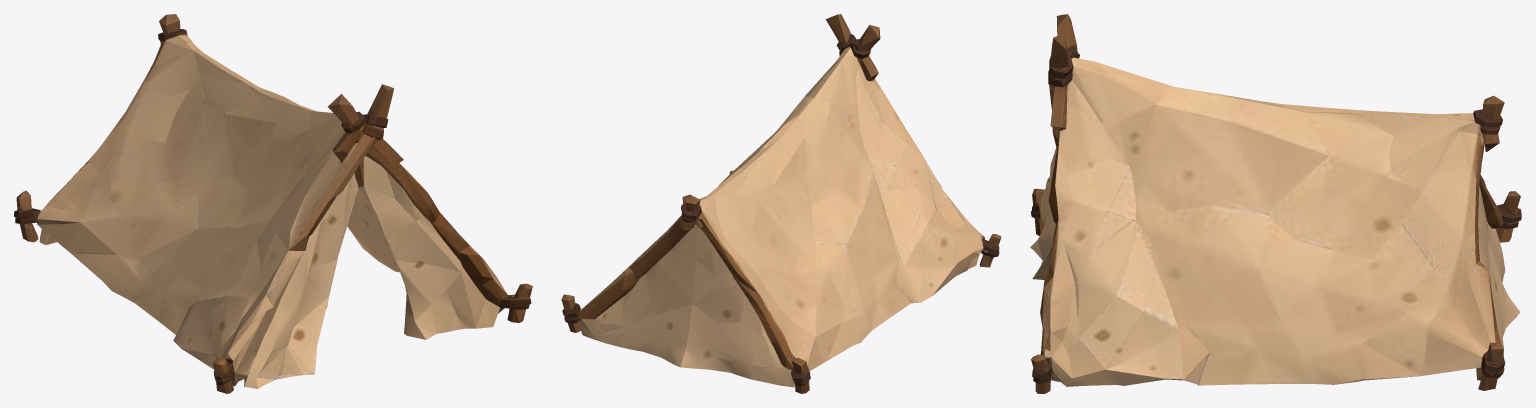
Rendered from tent-small.glb.
3 views of the same model, side by side, from view 1: azimuth 30°, elevation 25°; view 2: azimuth 150°, elevation 25°; view 3: azimuth 270°, elevation 25° (orthographic). The views are drawn at different scales.
Size of the model in its own units: 1.59 by 1.24 by 1.9.
Materials: 1 (1 with a texture image).
